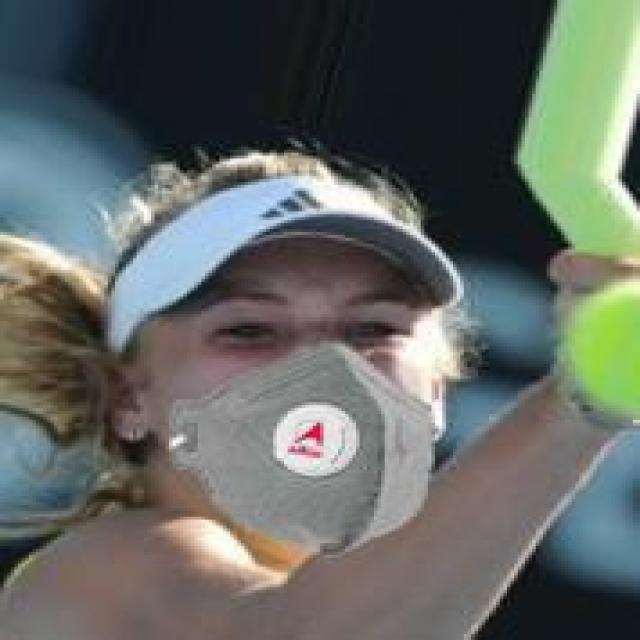mask: (82, 109, 564, 584)
